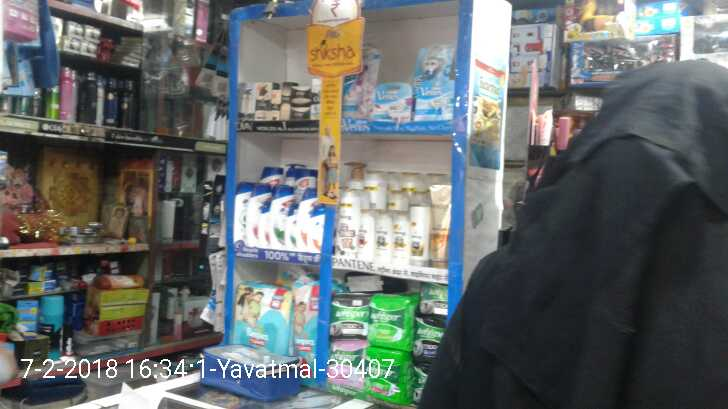venus: (346, 42, 367, 113), (374, 83, 414, 115), (414, 82, 450, 115), (417, 49, 454, 74)
